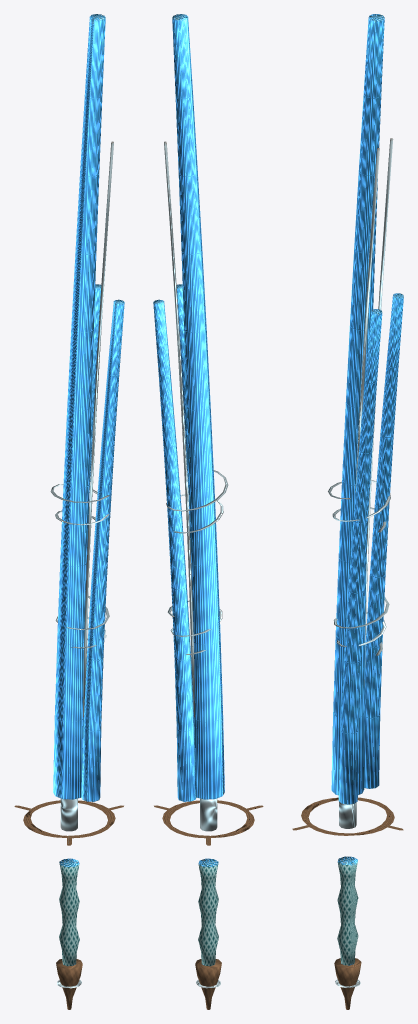
Rendered from sword_12_maelstrom_triad.glb.
3 views of the same model, side by side, from view 1: azimuth 30°, elevation 25°; view 2: azimuth 150°, elevation 25°; view 3: azimuth 330°, elevation 25° (orthographic).
Parts seen in each view (by area): view 1: Blade_MaelstromMain, Blade_MaelstromTriB, Inlay_TideGrooves, Grip_MaelstromBraid, Guard_StormRingTri, Blade_MaelstromTriA, Pommel_TriadOrb, Core_MaelstromEye, Vortex_WhirlRings; view 2: Blade_MaelstromMain, Blade_MaelstromTriA, Inlay_TideGrooves, Grip_MaelstromBraid, Guard_StormRingTri, Blade_MaelstromTriB, Pommel_TriadOrb, Vortex_WhirlRings, Core_MaelstromEye; view 3: Blade_MaelstromMain, Blade_MaelstromTriB, Blade_MaelstromTriA, Inlay_TideGrooves, Grip_MaelstromBraid, Guard_StormRingTri, Pommel_TriadOrb, Vortex_WhirlRings, Core_MaelstromEye.
Part boxes in pixels (x1,y1,x2,y2): Blade_MaelstromMain: (53,14,105,799); Blade_MaelstromTriB: (81,299,124,801); Inlay_TideGrooves: (83,141,113,717); Grip_MaelstromBraid: (59,858,79,966); Guard_StormRingTri: (14,800,123,845); Blade_MaelstromTriA: (89,284,101,492); Pommel_TriadOrb: (56,959,82,1009); Core_MaelstromEye: (60,798,77,831); Vortex_WhirlRings: (50,484,110,648); Blade_MaelstromMain: (172,14,224,799); Blade_MaelstromTriA: (153,299,196,801); Inlay_TideGrooves: (164,141,194,717); Grip_MaelstromBraid: (198,858,218,966); Guard_StormRingTri: (154,800,263,845); Blade_MaelstromTriB: (176,284,188,492); Pommel_TriadOrb: (195,959,221,1009); Vortex_WhirlRings: (166,470,228,654); Core_MaelstromEye: (200,798,217,831); Blade_MaelstromMain: (331,14,384,795); Blade_MaelstromTriB: (338,309,382,804); Blade_MaelstromTriA: (364,293,403,788); Inlay_TideGrooves: (355,138,393,685); Grip_MaelstromBraid: (337,856,358,965); Guard_StormRingTri: (292,797,403,835); Pommel_TriadOrb: (334,958,361,1009); Vortex_WhirlRings: (328,480,390,655); Core_MaelstromEye: (339,801,356,828).
Bounding box in the file's own units: 0.2639 × 2.6 × 0.263.
Materials: 1 (1 with a texture image).
